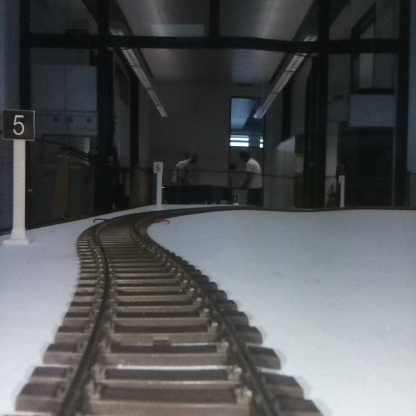black-info-5: (2, 110, 34, 243)
white-info-6: (154, 162, 163, 207)
